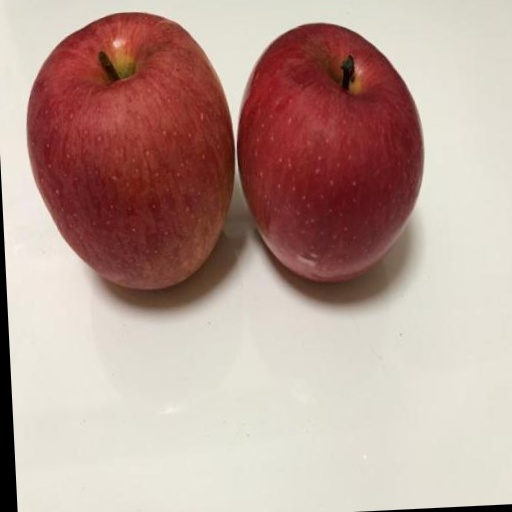fruit: (27, 13, 233, 289), (237, 24, 423, 281)
